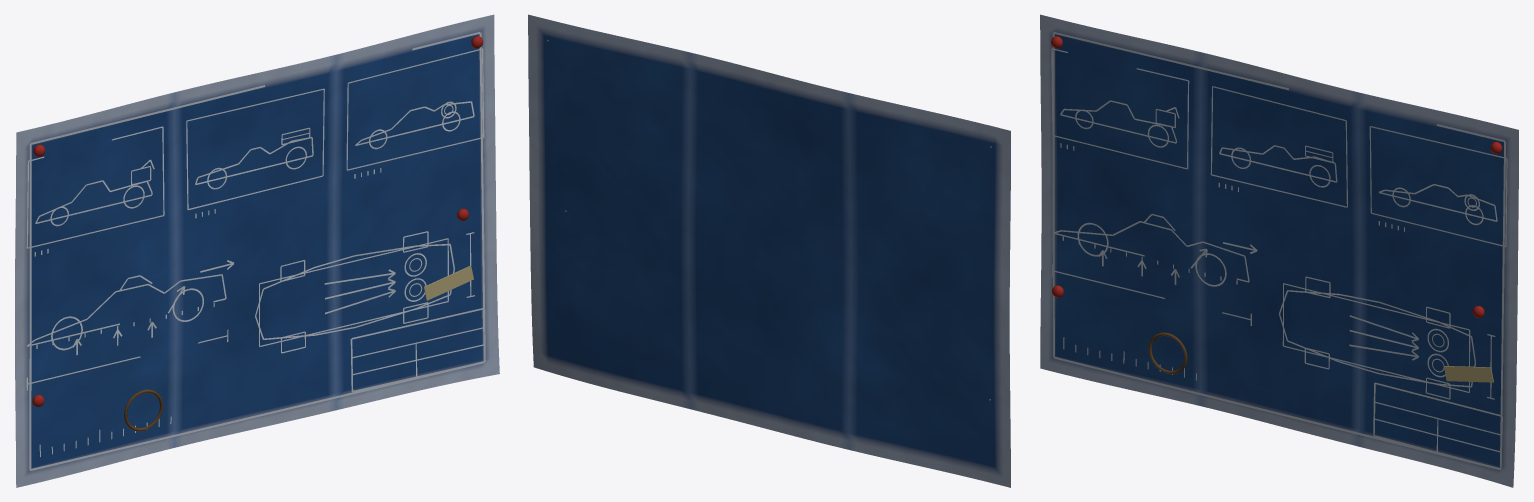
The model's file is project-fan.glb.
3 views of the same model, side by side, from view 1: azimuth 30°, elevation 25°; view 2: azimuth 150°, elevation 25°; view 3: azimuth 330°, elevation 25° (orthographic).
Parts seen in each view (by area): view 1: sheet; view 2: sheet; view 3: sheet.
Part boxes in pixels (x1=…): sheet: x1=15, y1=14, x2=499, y2=487; sheet: x1=528, y1=14, x2=1010, y2=487; sheet: x1=1040, y1=14, x2=1518, y2=487.
Size of the model in its own units: 1.2 by 0.85 by 0.0364.
